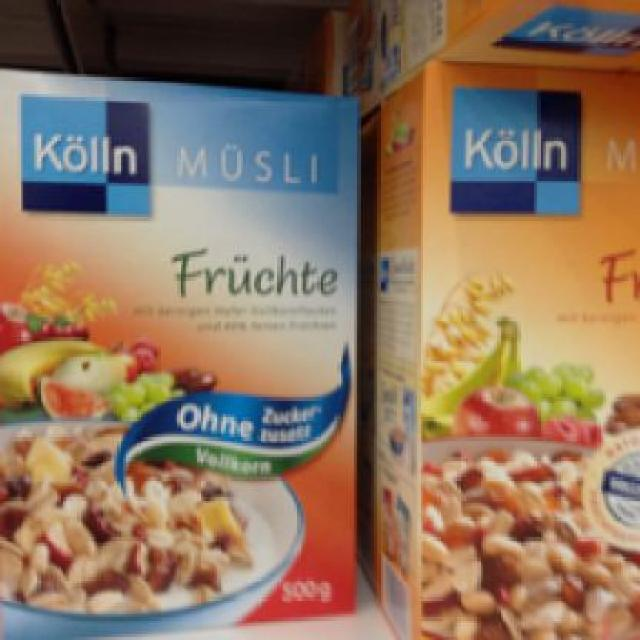Cereal: (0, 60, 363, 637), (368, 57, 638, 620)
